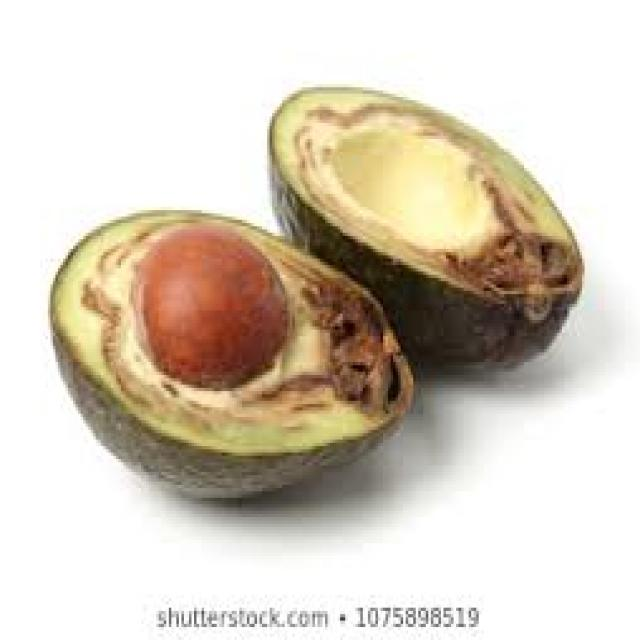organic waste: (45, 200, 411, 501), (265, 81, 582, 372), (131, 213, 287, 388)
